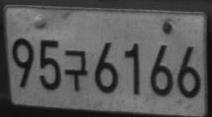1: (122, 43, 147, 95)
5: (38, 39, 61, 90)
6: (176, 45, 201, 98), (149, 44, 174, 96), (94, 41, 118, 93)
9: (10, 37, 33, 87)
구: (64, 48, 88, 91)
